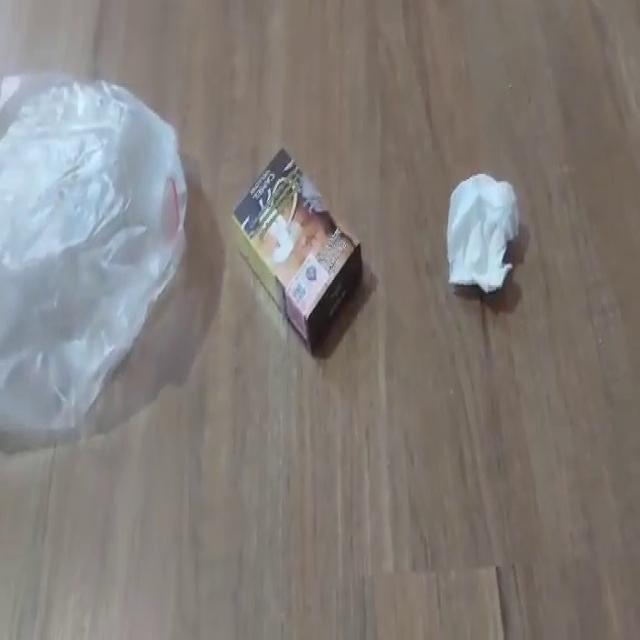Anorganik: (1, 66, 194, 444)
Organik: (230, 137, 366, 362), (444, 163, 524, 301)
